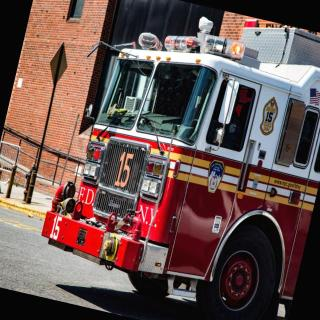Fire_truck: (28, 0, 320, 320)
